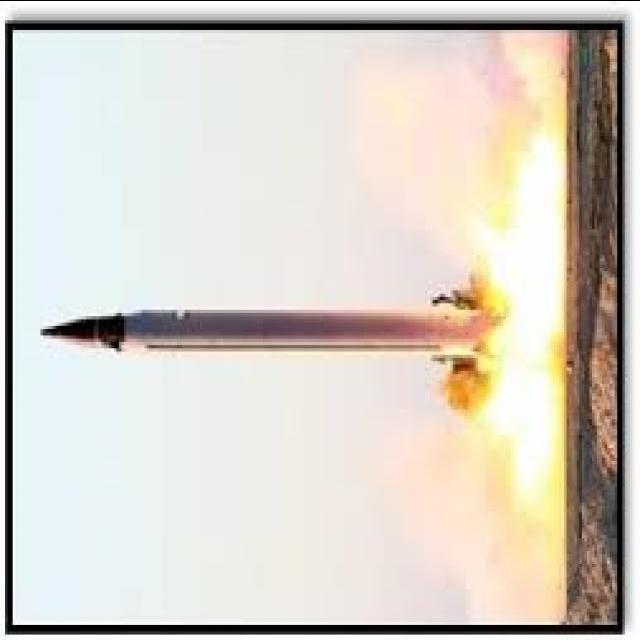missile: (33, 304, 490, 368)
